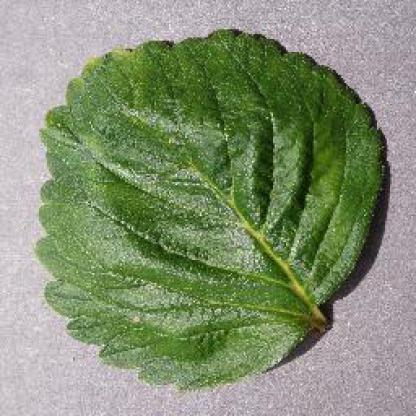healthy: (25, 18, 396, 396)
